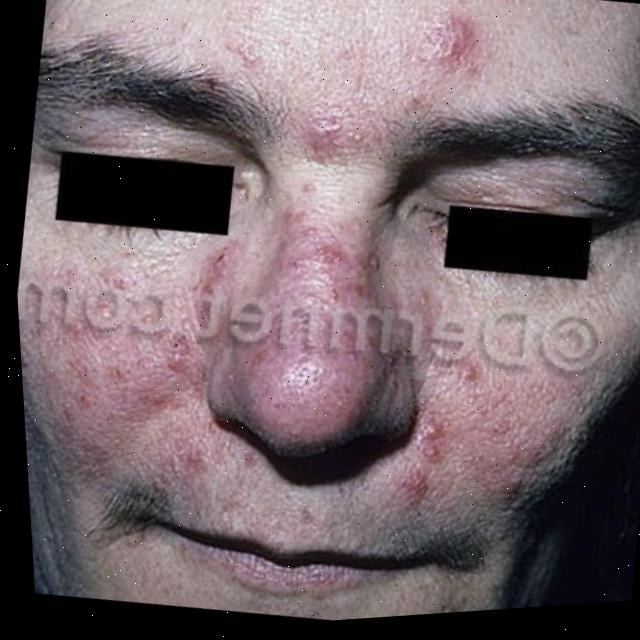Rosacea: (38, 219, 548, 561), (264, 0, 508, 207)
